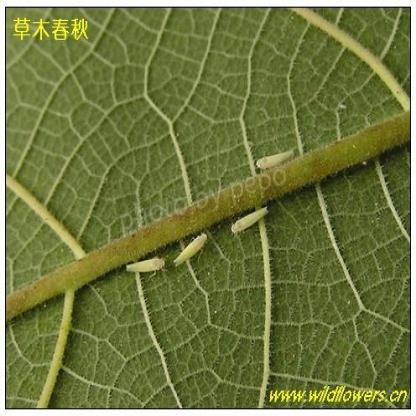Green-Leafhopper: (172, 227, 211, 270), (229, 203, 271, 238), (120, 252, 168, 280), (253, 147, 297, 173)
